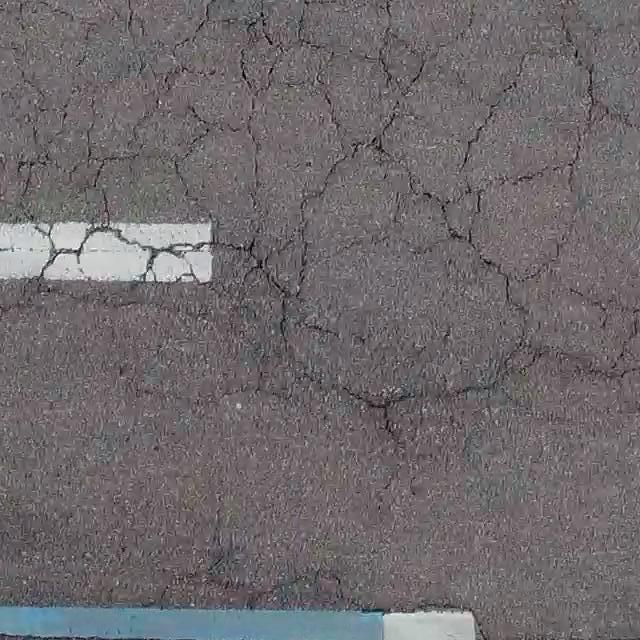GRIETA: (181, 571, 334, 608), (412, 600, 488, 639)
PIEL DE COCODRILO: (0, 0, 639, 474)
